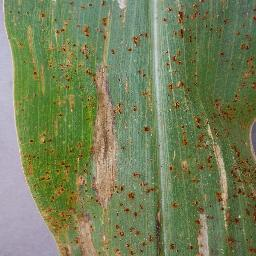Corn_Blight: (83, 64, 125, 213), (213, 140, 256, 256), (22, 134, 82, 213), (38, 214, 124, 256), (126, 171, 163, 256), (10, 34, 117, 63), (192, 116, 214, 256), (239, 3, 256, 138), (163, 0, 206, 50), (47, 64, 80, 115), (165, 51, 197, 99), (44, 12, 109, 33), (132, 66, 154, 113), (207, 0, 232, 37), (216, 97, 238, 138), (123, 30, 151, 54), (14, 88, 40, 110), (58, 0, 108, 11), (168, 99, 193, 117), (113, 0, 129, 24), (27, 64, 45, 83), (181, 121, 192, 152), (169, 159, 190, 175), (194, 104, 213, 115), (167, 239, 180, 254), (217, 48, 231, 61), (141, 122, 153, 134), (171, 200, 181, 211)
